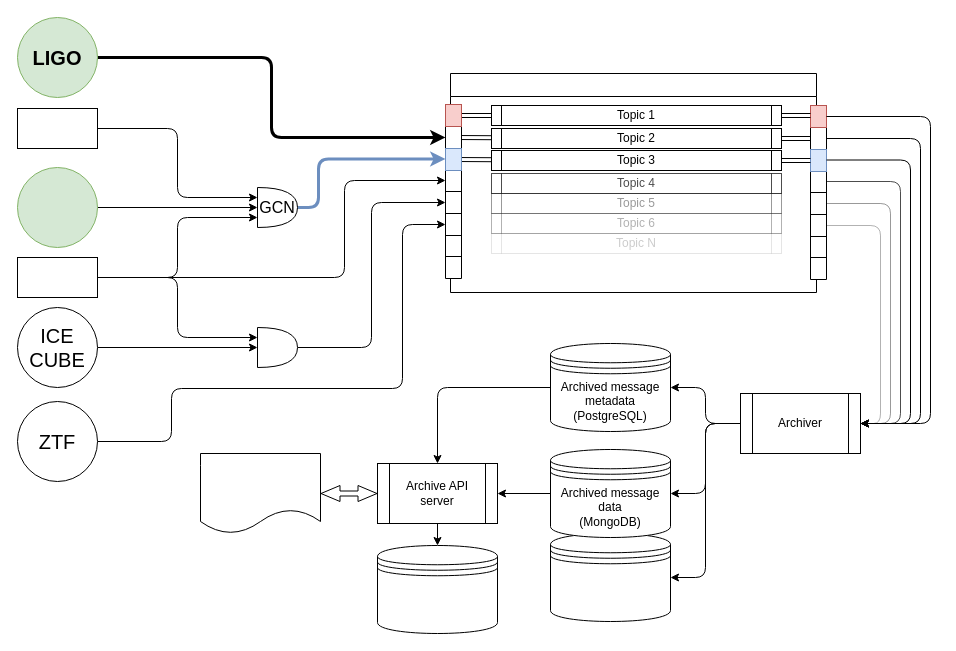
The diagram is 956 pixels wide and 651 high, and some of its shapes have lost their labels. The box of each missing label's shape, as (x1, y1, x2, y2) in pixels:
Archive API server database (PostgreSQL): (376, 544, 498, 634)
Archive Browser: (200, 452, 320, 534)
Archived message data (S3 object store): (550, 532, 670, 622)
DECam: (16, 166, 98, 248)
Email: (16, 108, 98, 148)
Hermes: (16, 256, 98, 298)
hop.SCiMMA: (450, 72, 816, 292)
